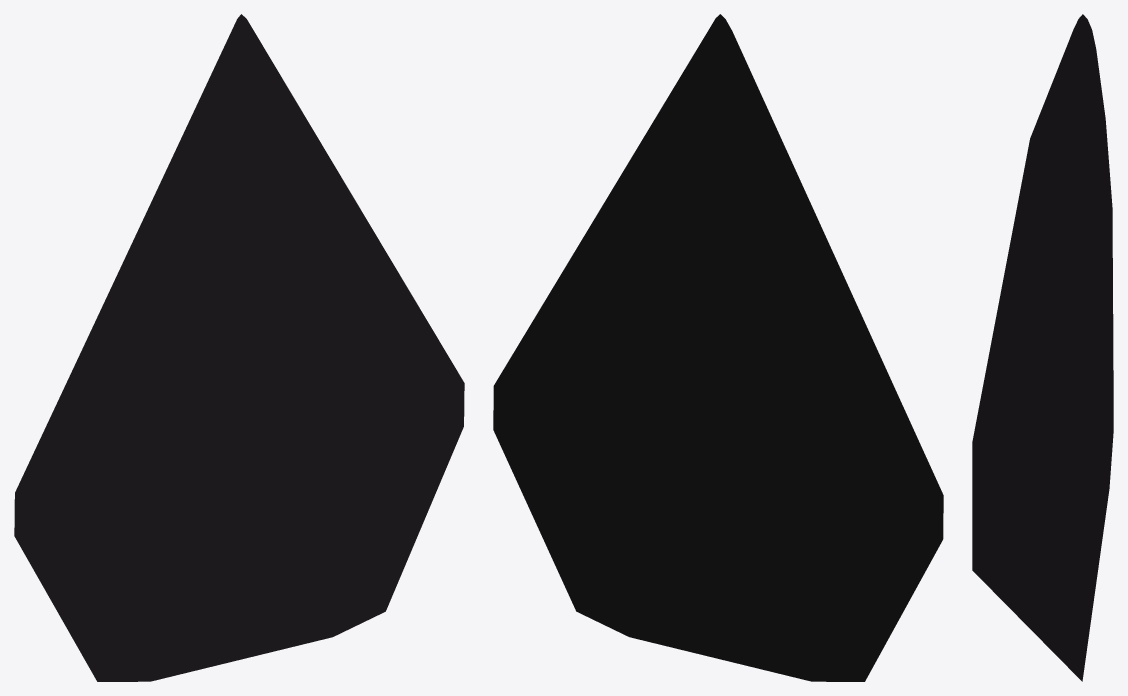
Rendered from FA-22_Raptor_Convex_Hull.obj.
3 views of the same model, side by side, from view 1: azimuth 30°, elevation 25°; view 2: azimuth 150°, elevation 25°; view 3: azimuth 270°, elevation 25° (orthographic). The views are drawn at different scales.
Visible parts, largest first — view 1: FullModel.001_VoletR01.001; view 2: FullModel.001_VoletR01.001; view 3: FullModel.001_VoletR01.001.
Boxes of the visible parts, x1,y1,x2,y2 form: FullModel.001_VoletR01.001: (14,14,464,681); FullModel.001_VoletR01.001: (493,14,943,681); FullModel.001_VoletR01.001: (972,14,1113,681).
Size of the model in its own units: 13.75 by 18.86 by 3.94.
1 material, 1 textured.
